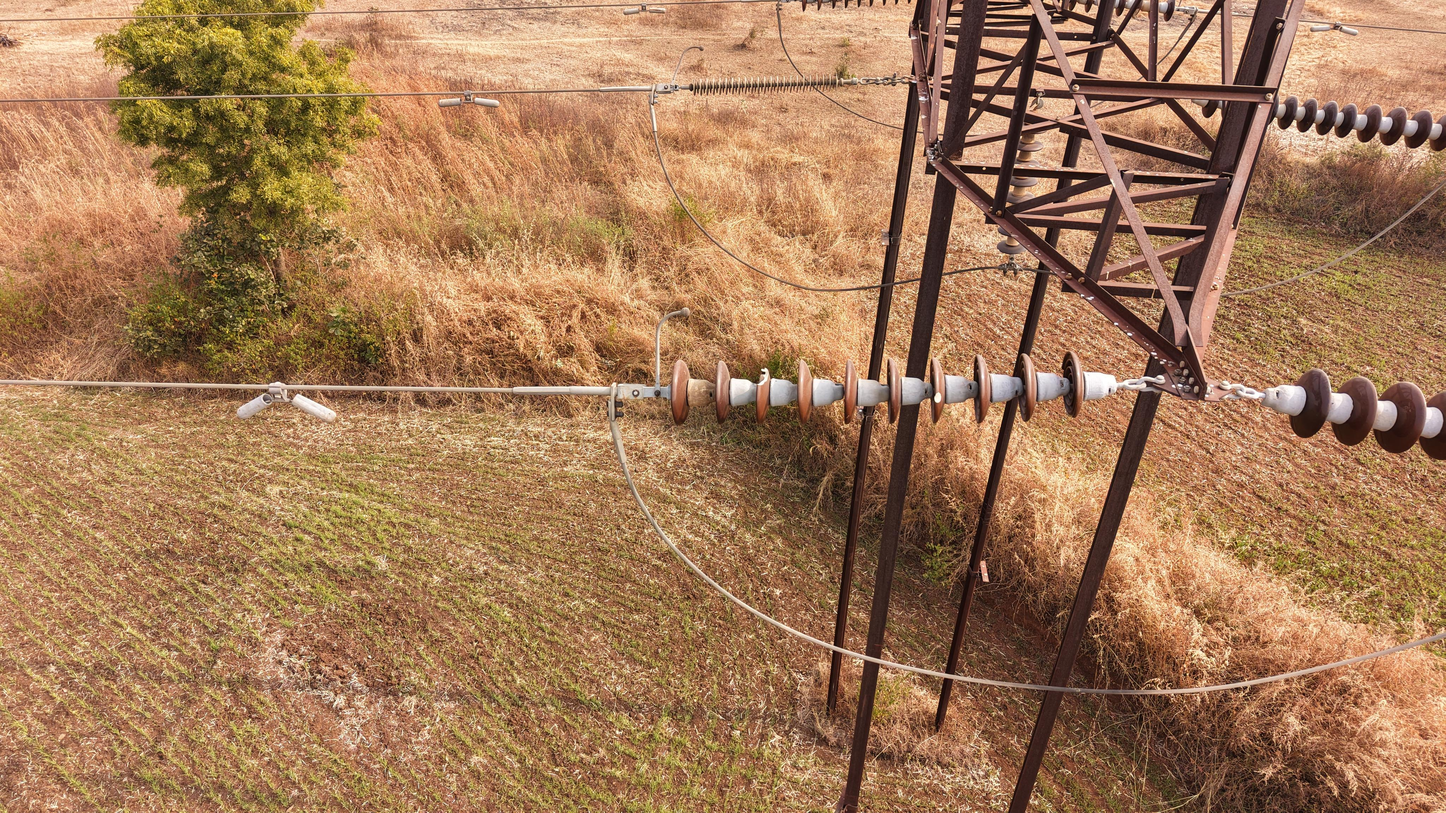broken_insulator: (747, 360, 781, 426)
